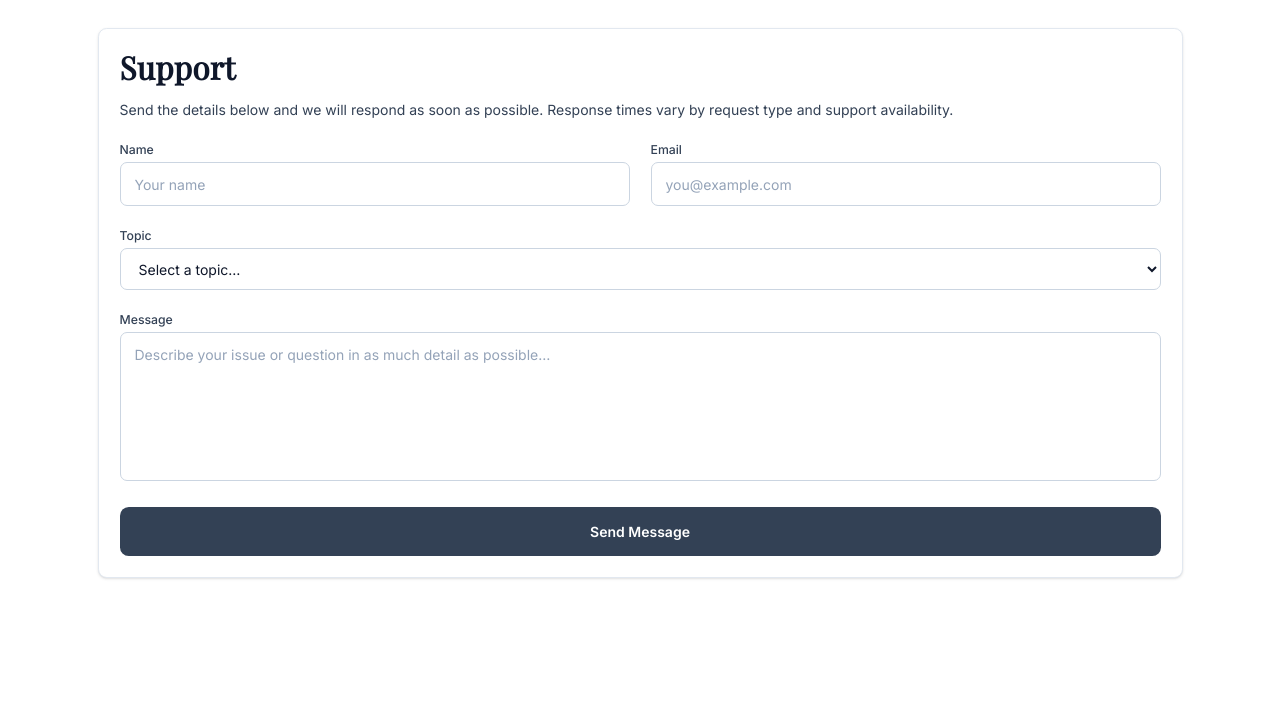
Test case: Support › submits the form and shows a success message
The width and height of the screenshot is (1280, 720).
Type "Jamie Driver" into the field labelled "Name".
click(374, 184); type("Jamie Driver")  # box [120,162,630,206]
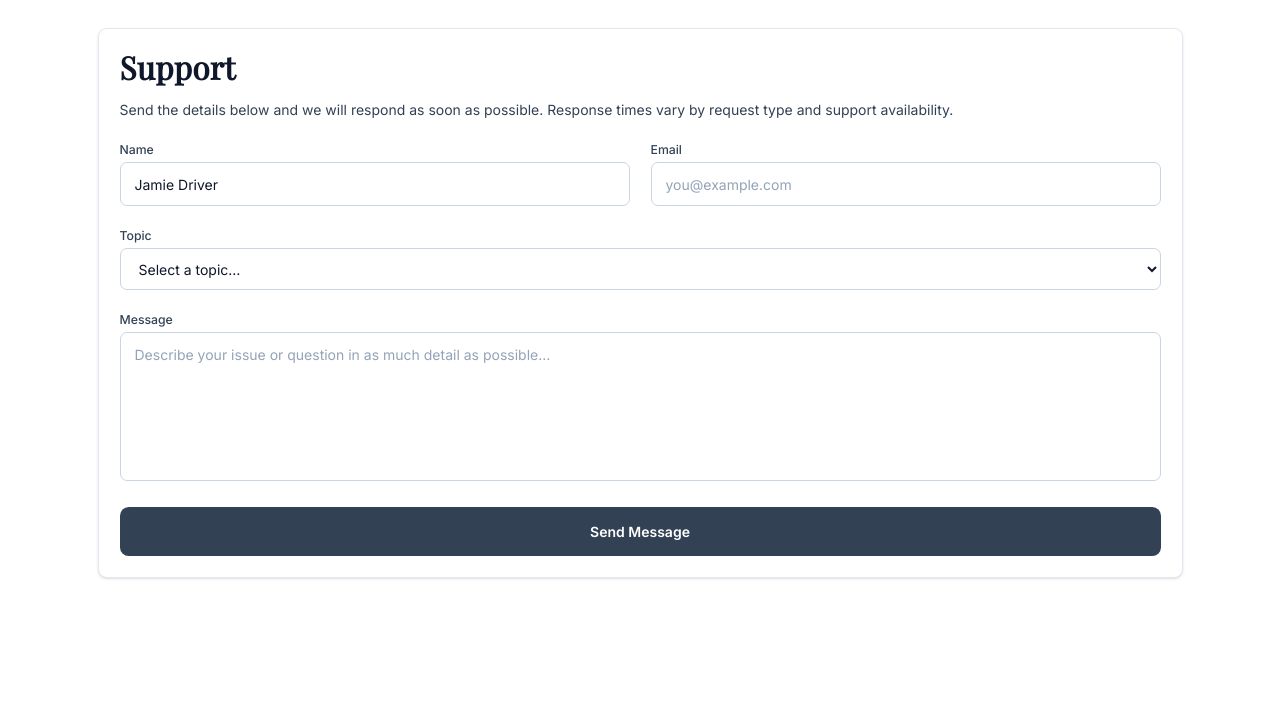
Type "jamie@example.com" into the field labelled "Email".
click(906, 184); type("jamie@example.com")  # box [650,162,1160,206]
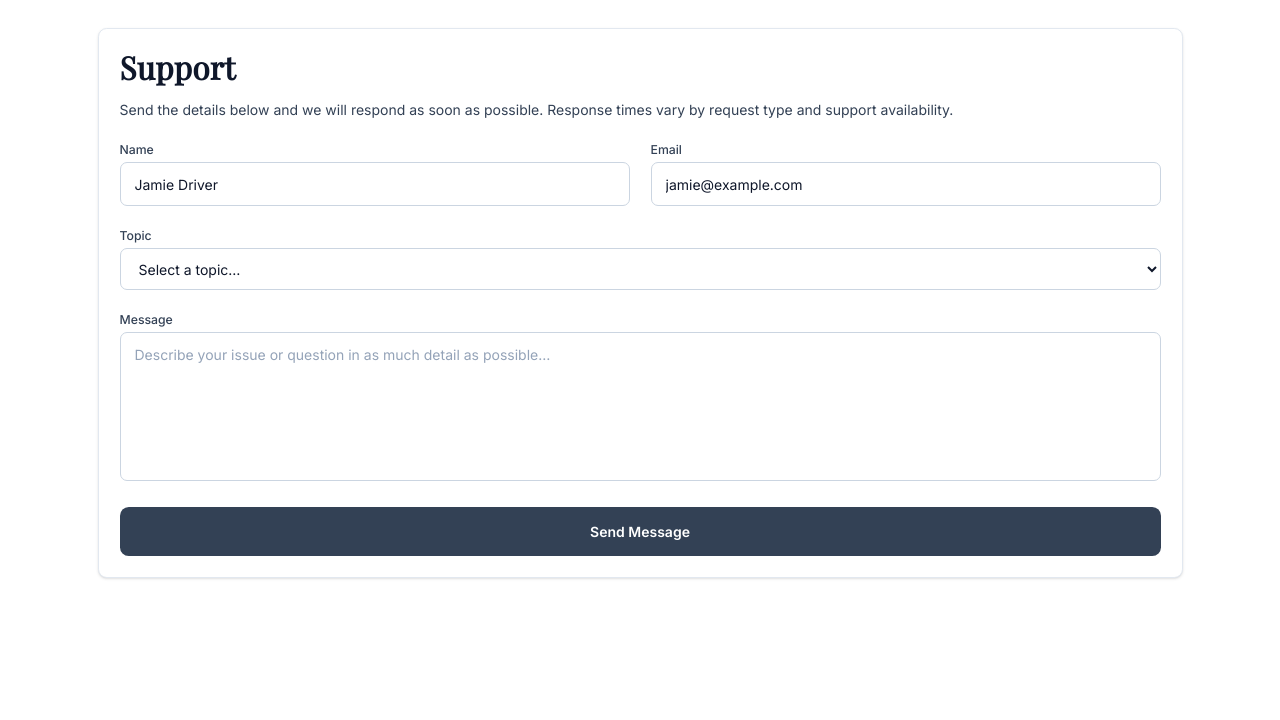
Select "Bug Report" in the dropdown labelled "Topic" at [640, 269], box [120,248,1160,290]
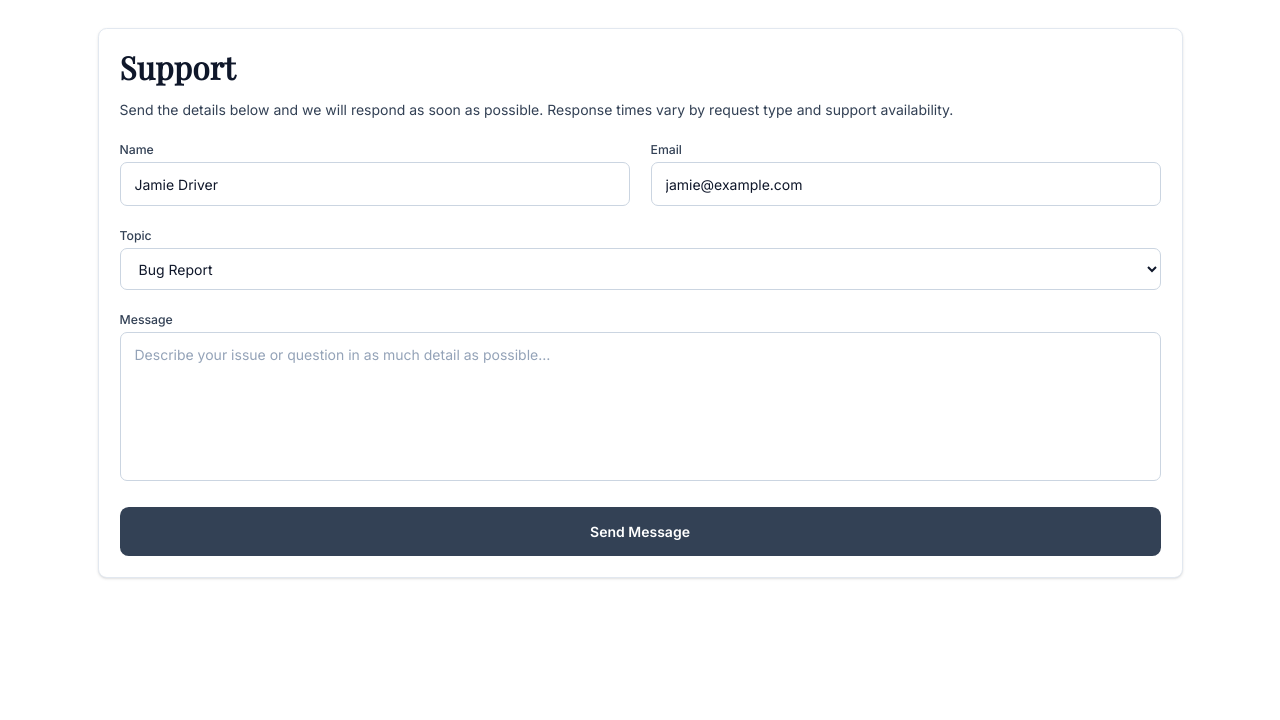
Replace the text in the text box labelled "Message" with "The app crashes when I add a vehicle." at [640, 406], box [120,332,1160,481]
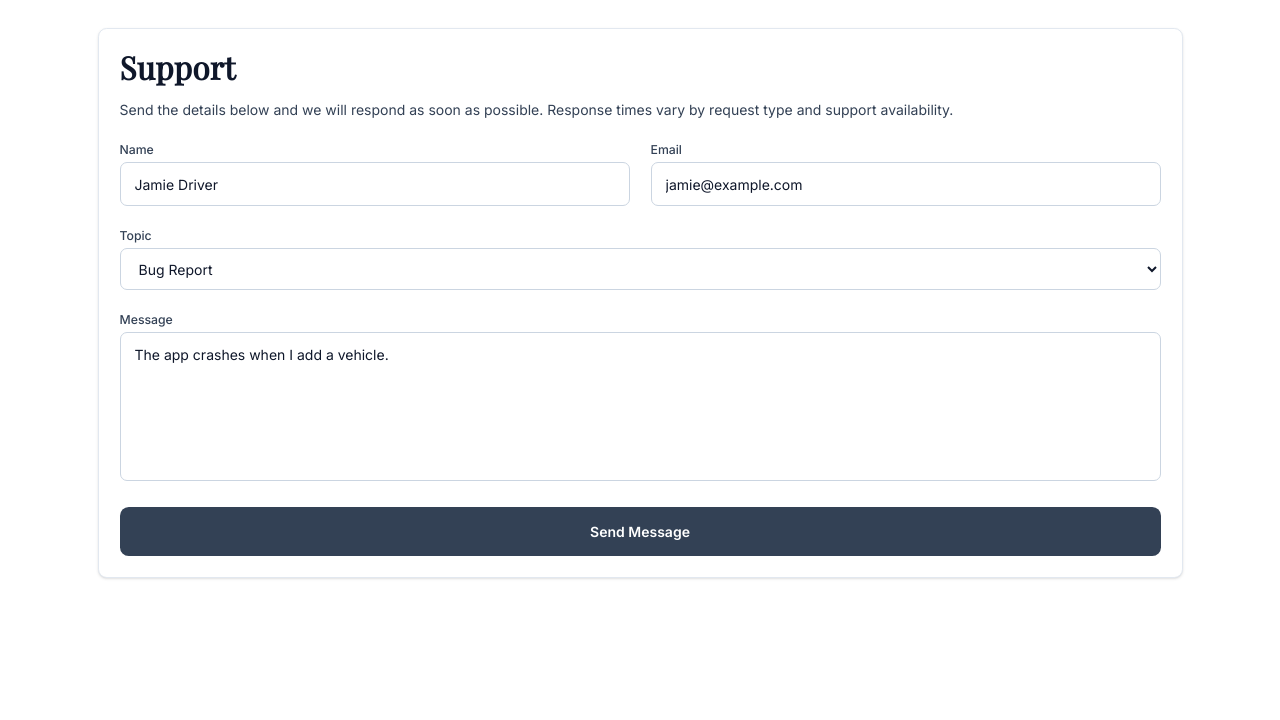
Click the button "Send Message".
click(640, 532)  # box [120,507,1160,556]
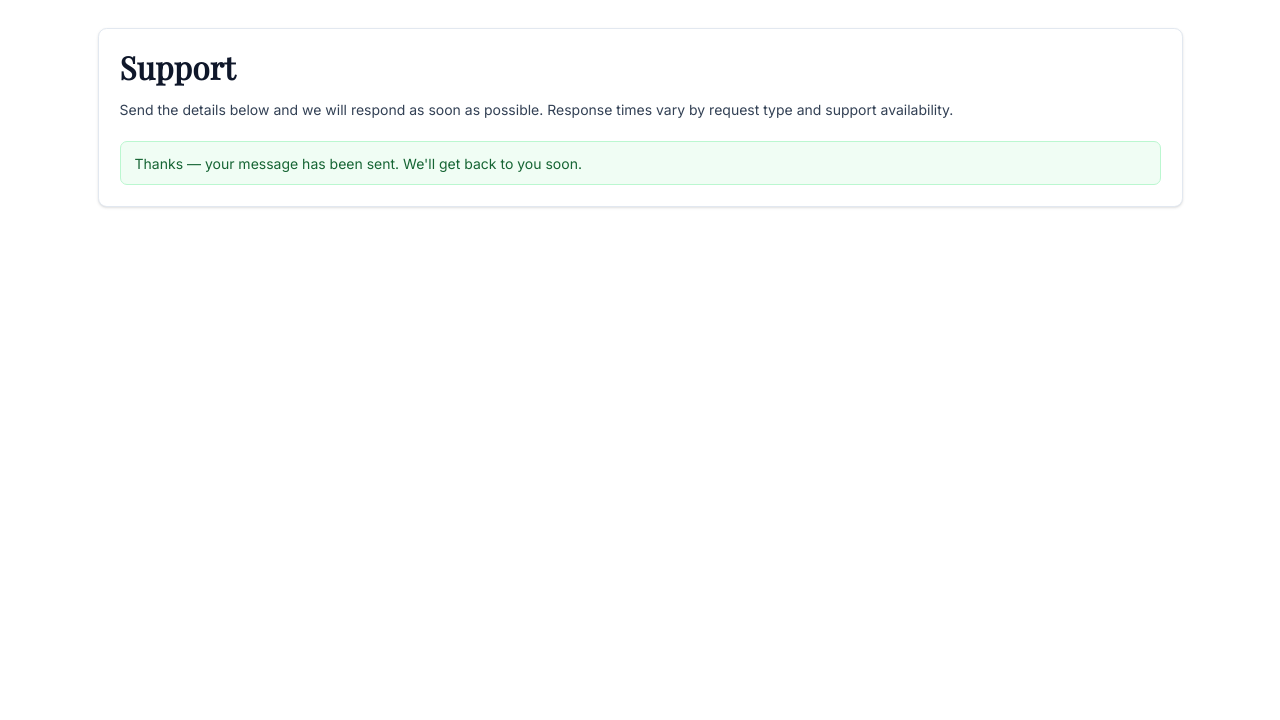
Expected: the message "Thanks — your message has been sent. We'll get back to you soon." is shown, [120,141,1160,185]
Expected: the message shows "your message has been sent", [134,154,582,172]
